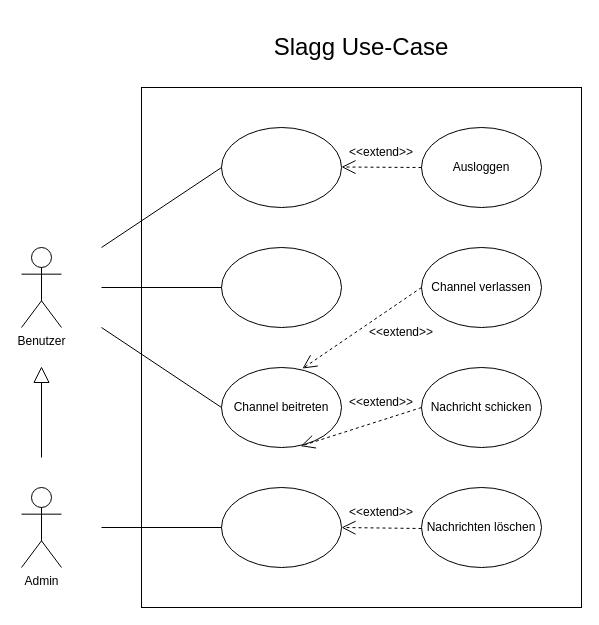
Image size: 599x625. Some labels were removed from this diagram. Each missing label, with the centre of its shape:
"Channel erstellen" belongs at point (281, 287).
"Einloggen" belongs at point (281, 167).
"Übersicht anzeigen" belongs at point (281, 527).
